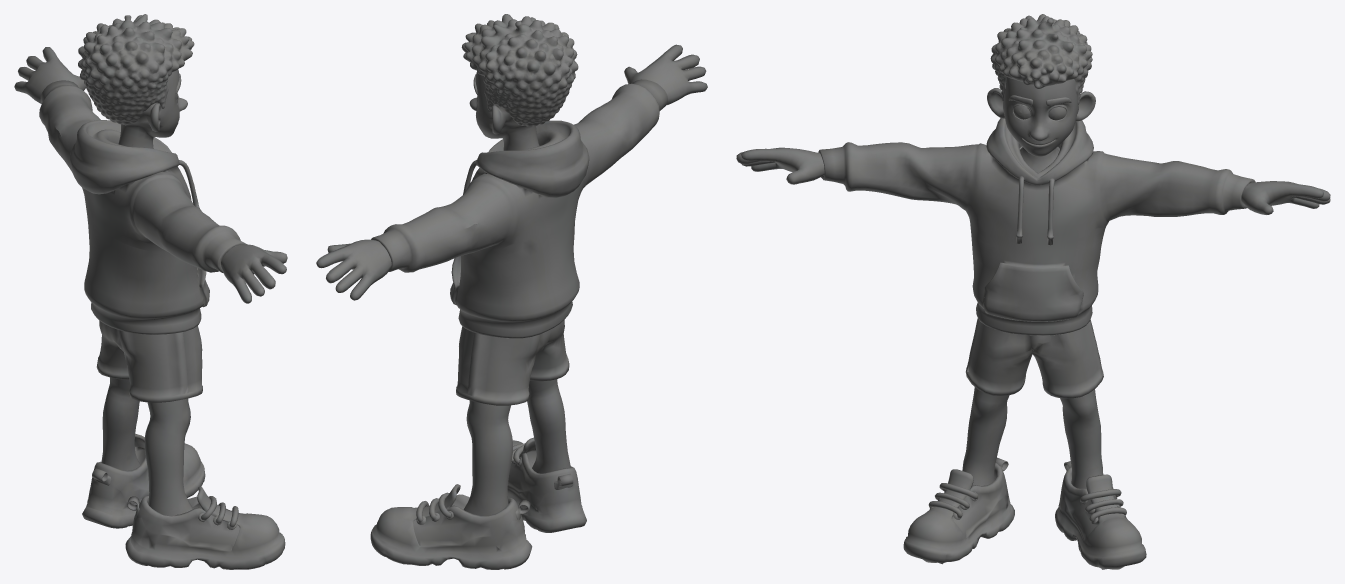
3 views of the same model, side by side, from view 1: azimuth 30°, elevation 25°; view 2: azimuth 150°, elevation 25°; view 3: azimuth 270°, elevation 25° (orthographic). The views are drawn at different scales.
Parts seen in each view (by area): view 1: tripo_node_60a8ab09-de02-43c8-962c-7decc457fe5c; view 2: tripo_node_60a8ab09-de02-43c8-962c-7decc457fe5c; view 3: tripo_node_60a8ab09-de02-43c8-962c-7decc457fe5c.
Boxes of the visible parts, box(x1,y1,x2,y2) form: tripo_node_60a8ab09-de02-43c8-962c-7decc457fe5c: box(14, 14, 287, 569); tripo_node_60a8ab09-de02-43c8-962c-7decc457fe5c: box(316, 14, 707, 569); tripo_node_60a8ab09-de02-43c8-962c-7decc457fe5c: box(736, 14, 1330, 569).
Size of the model in its own units: 0.3091 by 0.939 by 0.9995.
Materials: 1 (1 with a texture image).
